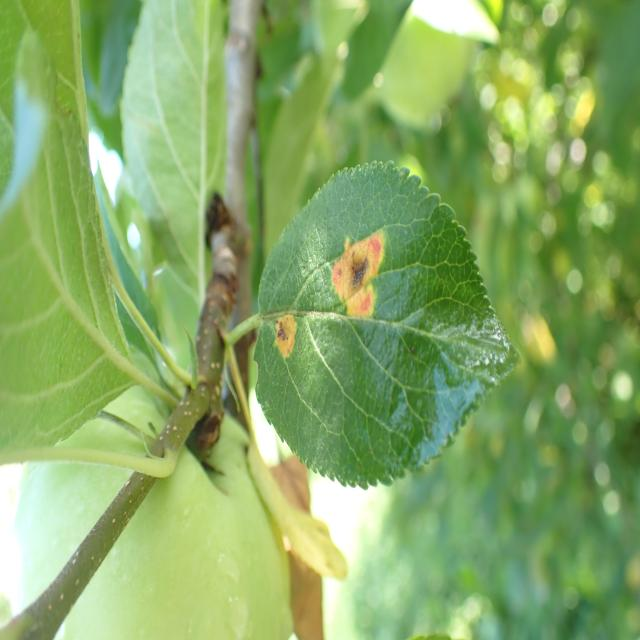rust: (251, 159, 523, 491)
